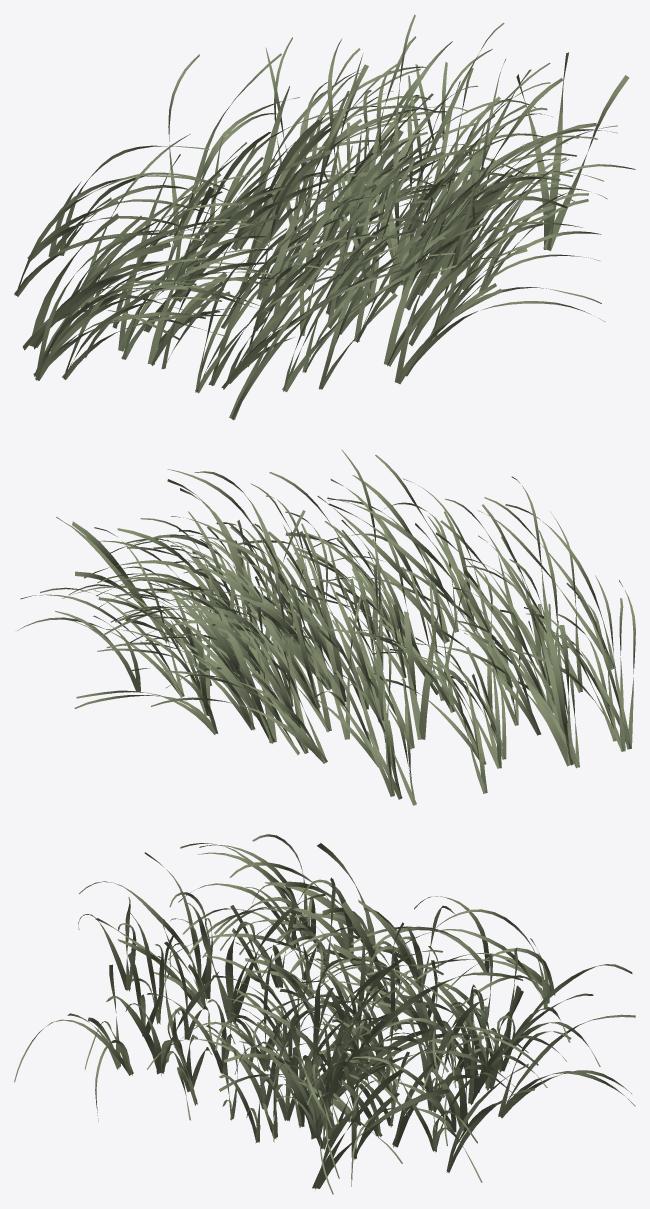
The model's file is grass_hub.fbx.
3 views of the same model, one above another, from view 1: azimuth 30°, elevation 25°; view 2: azimuth 150°, elevation 25°; view 3: azimuth 270°, elevation 25° (orthographic). The views are drawn at different scales.
Visible parts, largest first — view 1: long_grass; view 2: long_grass; view 3: long_grass.
Boxes of the visible parts, x1,y1,x2,y2 form: long_grass: (14, 14, 635, 420); long_grass: (17, 449, 635, 805); long_grass: (14, 834, 635, 1194).
Bounding box in the file's own units: 3.29 × 1.1 × 2.86.
